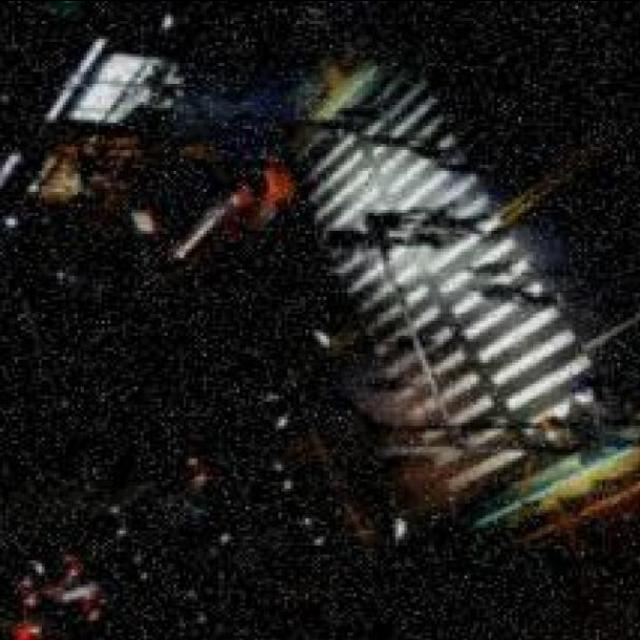zebra: (302, 62, 600, 495)
